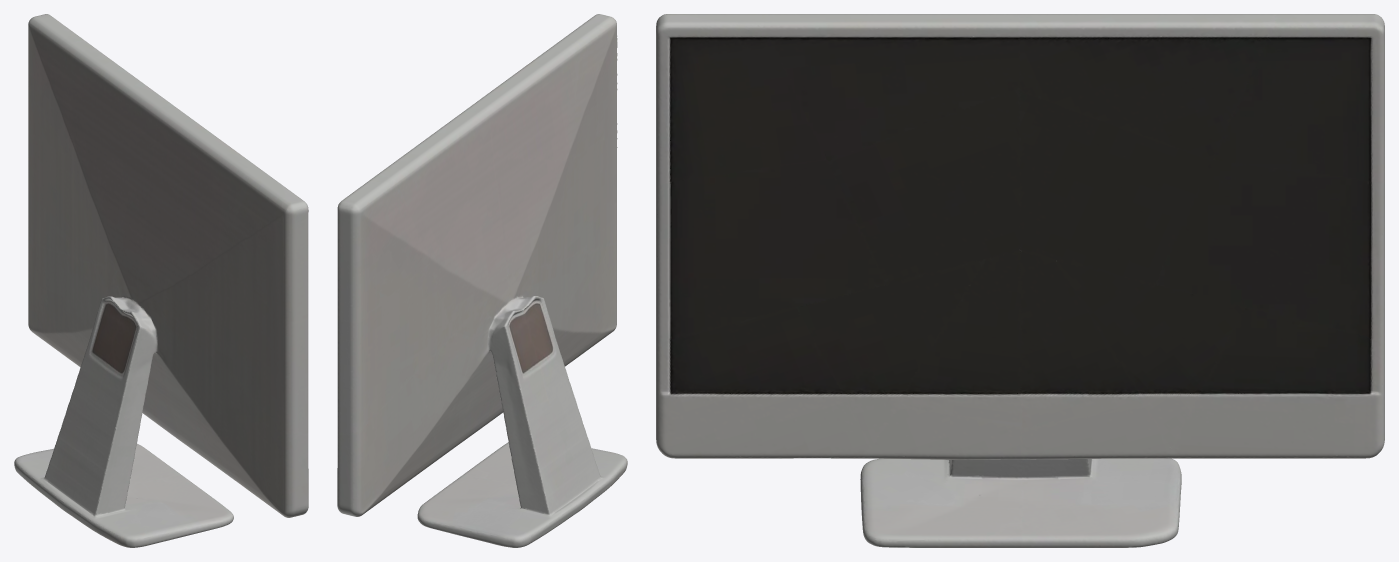
Rendered from monitor.glb.
3 views of the same model, side by side, from view 1: azimuth 30°, elevation 25°; view 2: azimuth 150°, elevation 25°; view 3: azimuth 270°, elevation 25° (orthographic). The views are drawn at different scales.
Visible parts, largest first — view 1: tripo_node_1fb2e680-6db3-4e18-86c1-a54013918f8c; view 2: tripo_node_1fb2e680-6db3-4e18-86c1-a54013918f8c; view 3: tripo_node_1fb2e680-6db3-4e18-86c1-a54013918f8c.
Boxes of the visible parts, left/top/right/bottom form: tripo_node_1fb2e680-6db3-4e18-86c1-a54013918f8c: left=14, top=14, right=308, bottom=547; tripo_node_1fb2e680-6db3-4e18-86c1-a54013918f8c: left=337, top=14, right=627, bottom=547; tripo_node_1fb2e680-6db3-4e18-86c1-a54013918f8c: left=656, top=14, right=1384, bottom=547.
Size of the model in its own units: 0.2672 by 0.7891 by 1.
Materials: 1 (1 with a texture image).
